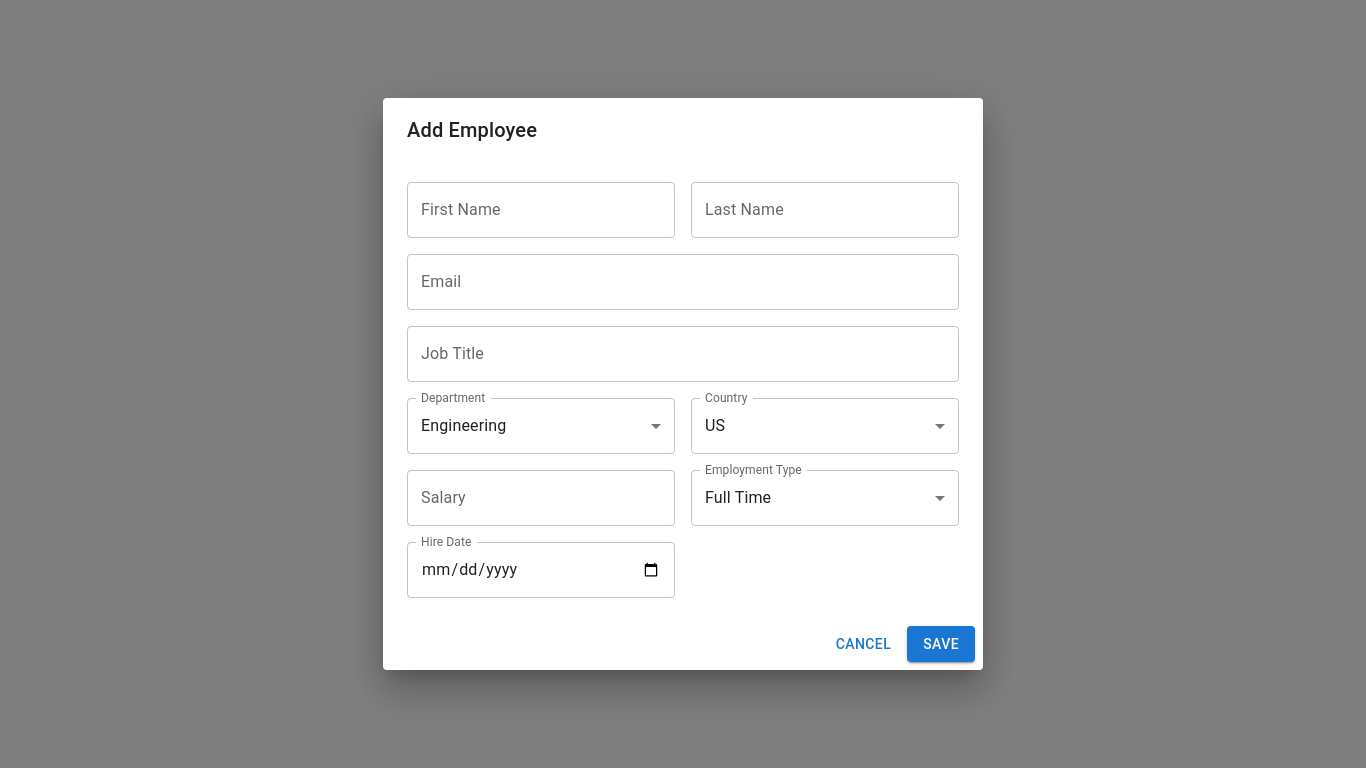
Test case: EmployeeModal › shows validation error for invalid email format
In the field labelled "First Name": (541, 210) [407,182,675,238], type "Alice"
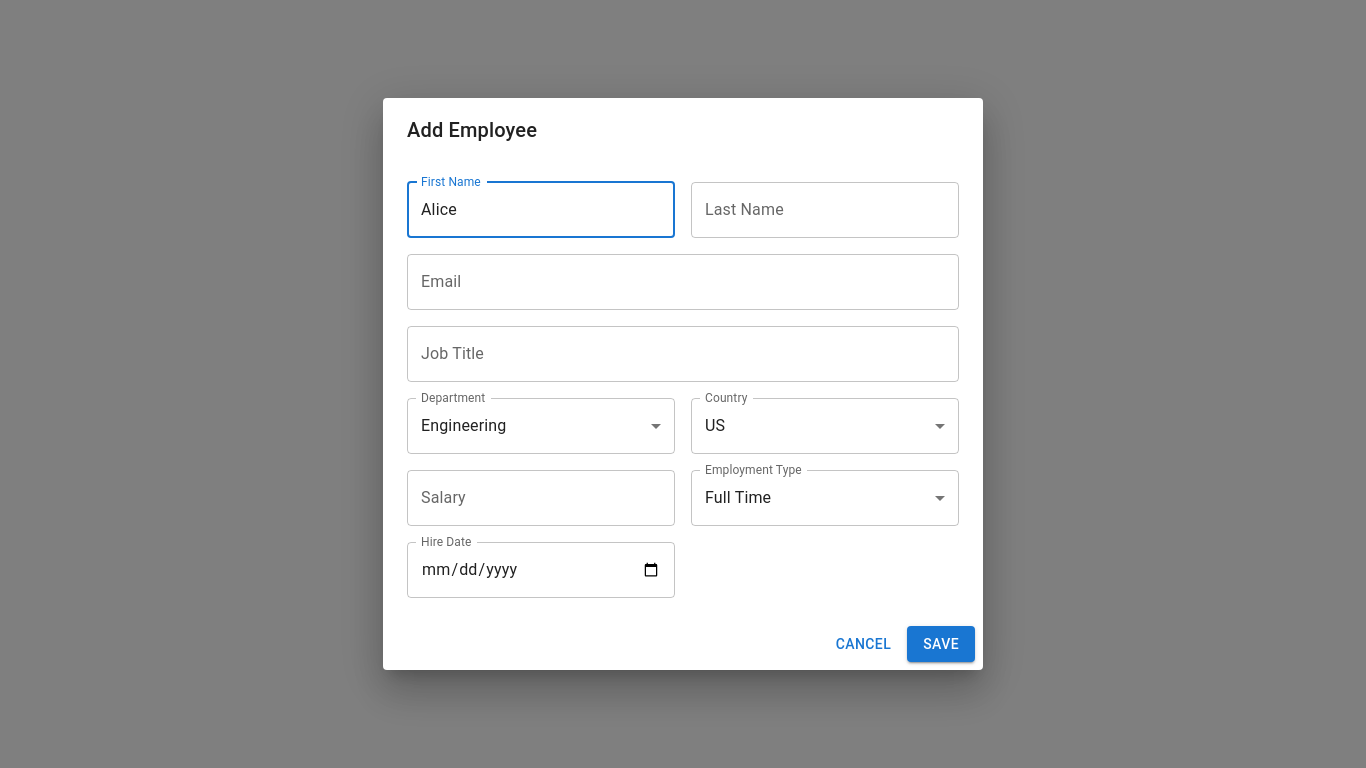
In the field labelled "Last Name": (825, 210) [691,182,959,238], type "Wong"
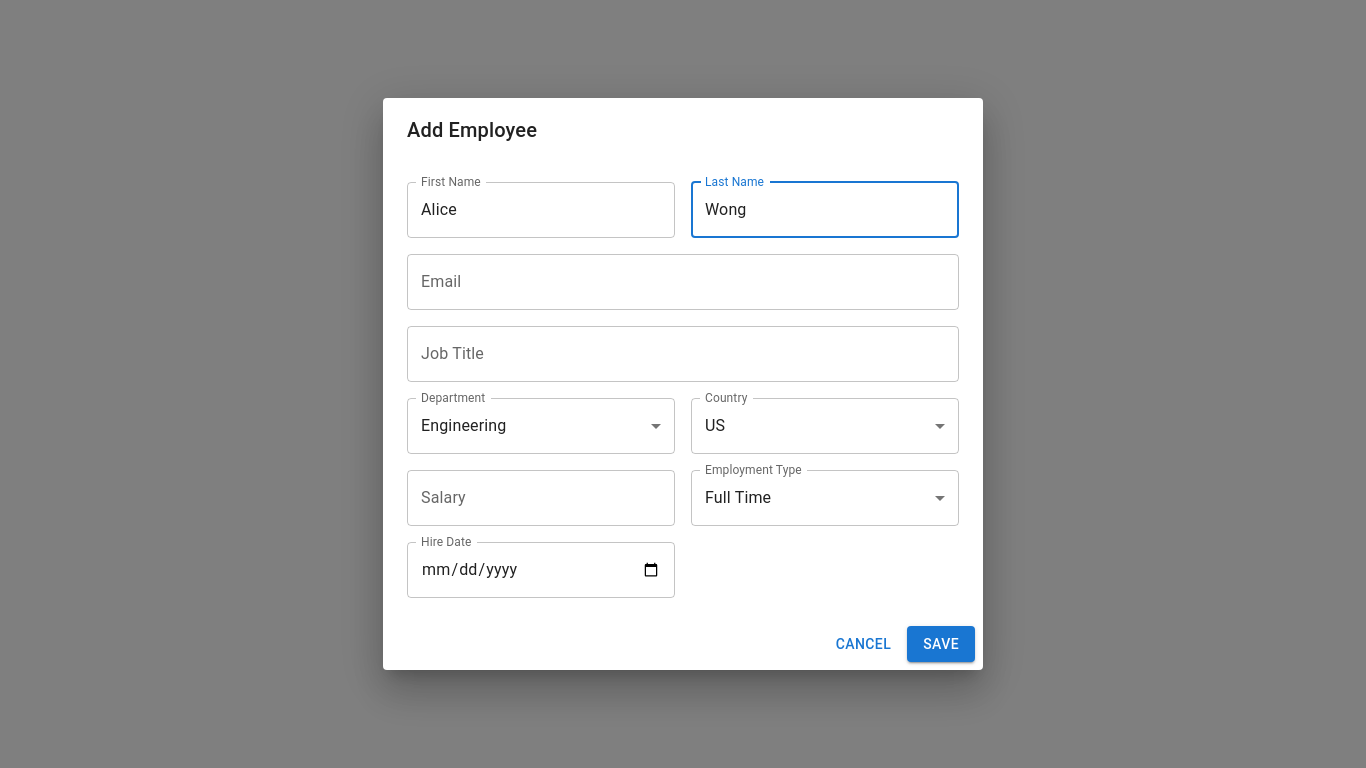
In the field labelled "Email": (683, 282) [407,254,959,310], type "not-an-email"
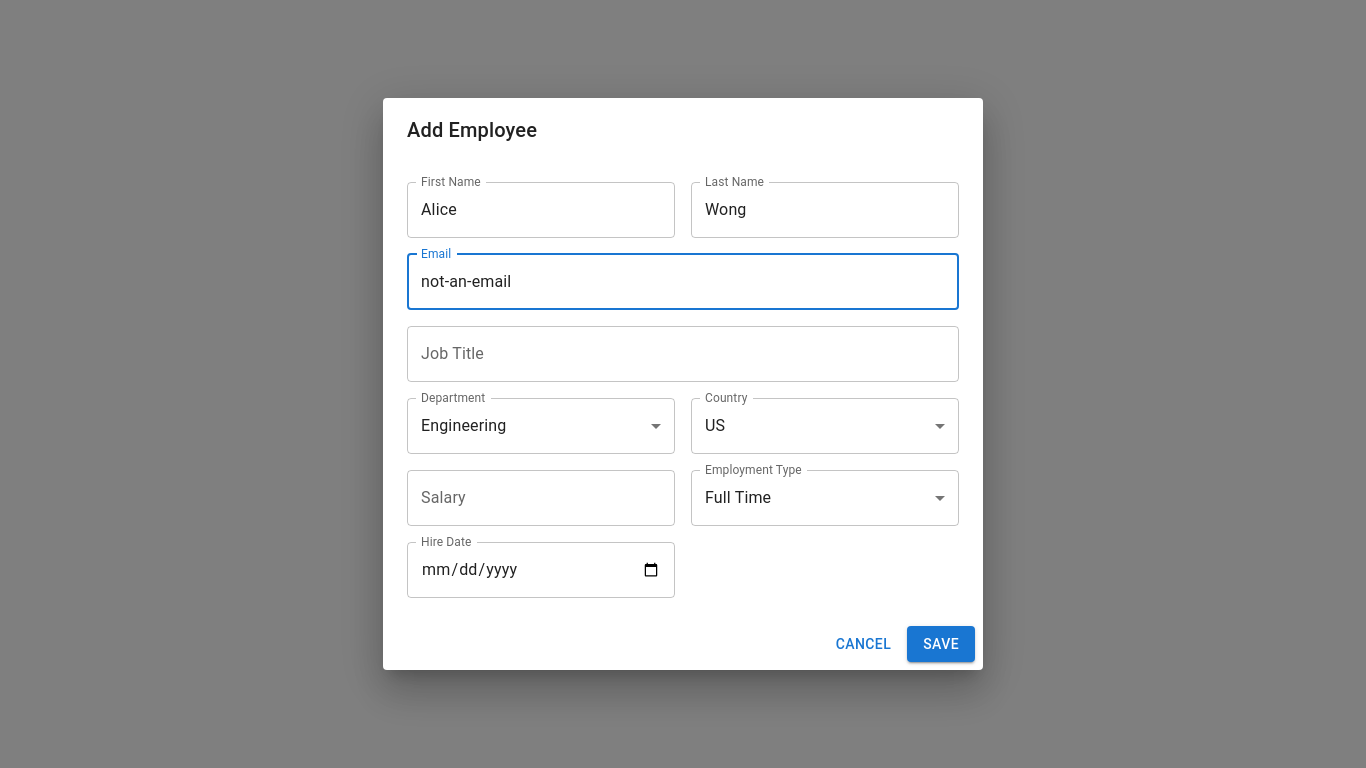
Click the button "Save": click(941, 644) [907,626,975,662]
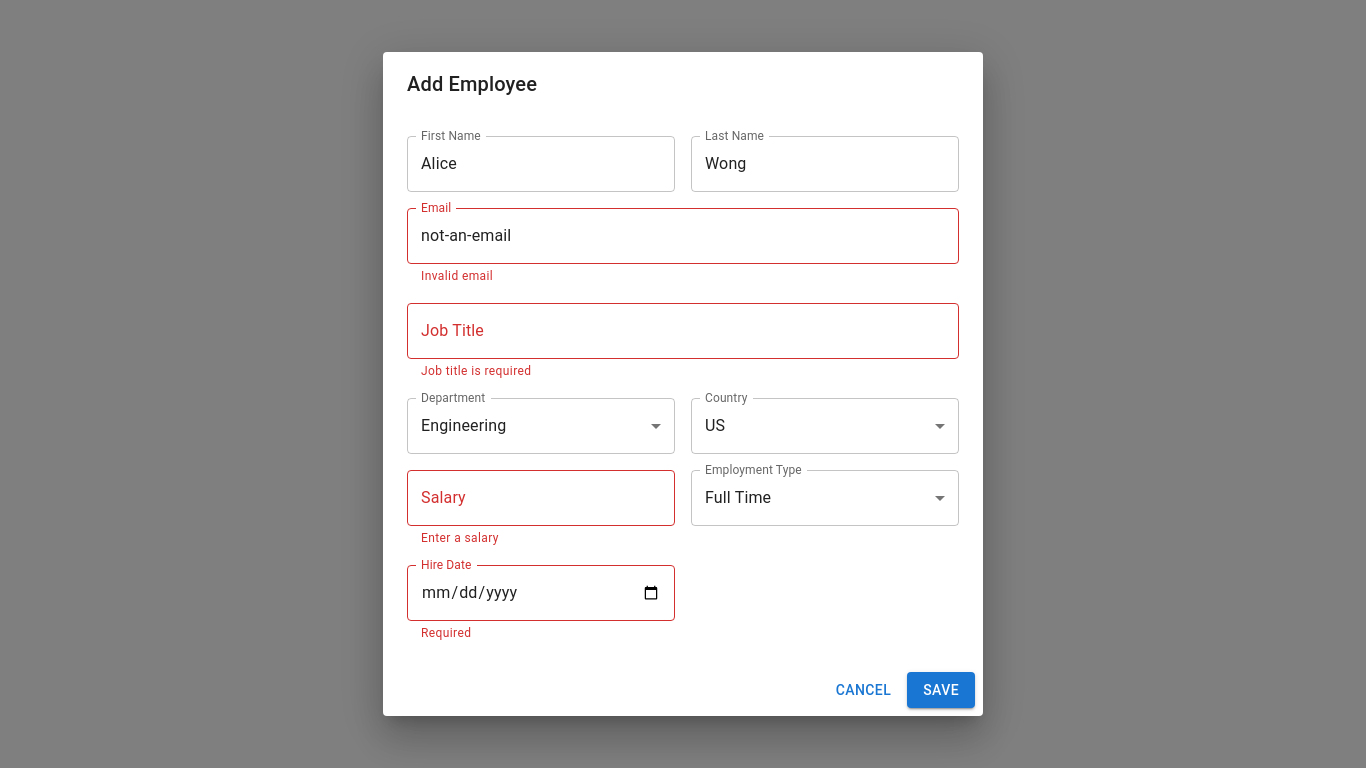
Now the text "Invalid email" is shown, box [421,269,493,283]
